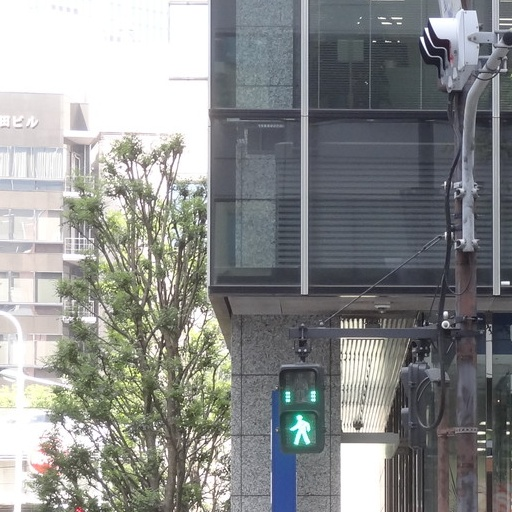Pedestrian_Signal_Blue: (274, 352, 331, 451)
